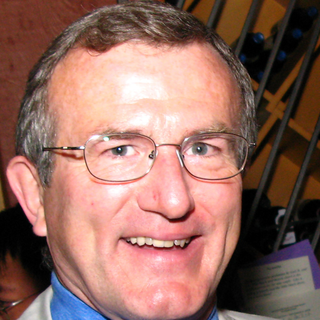eye: (178, 135, 225, 162), (99, 141, 141, 163)
